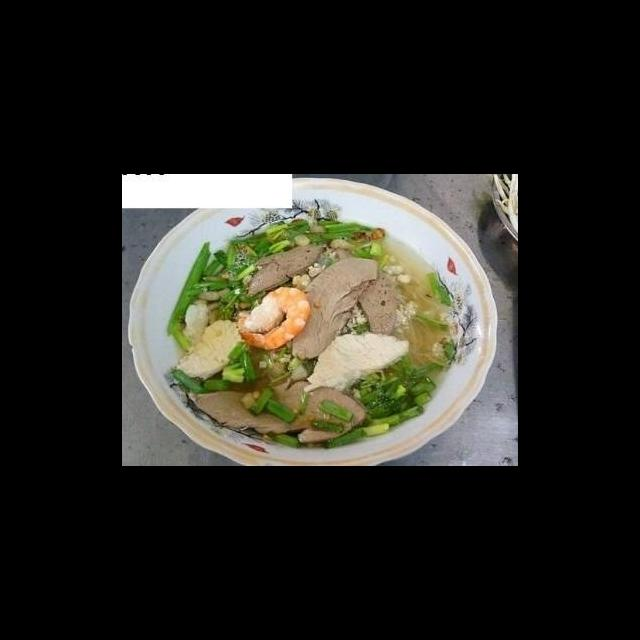gan: (332, 243, 404, 344), (242, 236, 328, 299)
thit bam: (335, 300, 371, 339)
thit heo: (183, 386, 376, 447), (286, 250, 382, 364), (301, 325, 417, 397), (173, 316, 245, 385)
tom: (232, 280, 313, 355)
